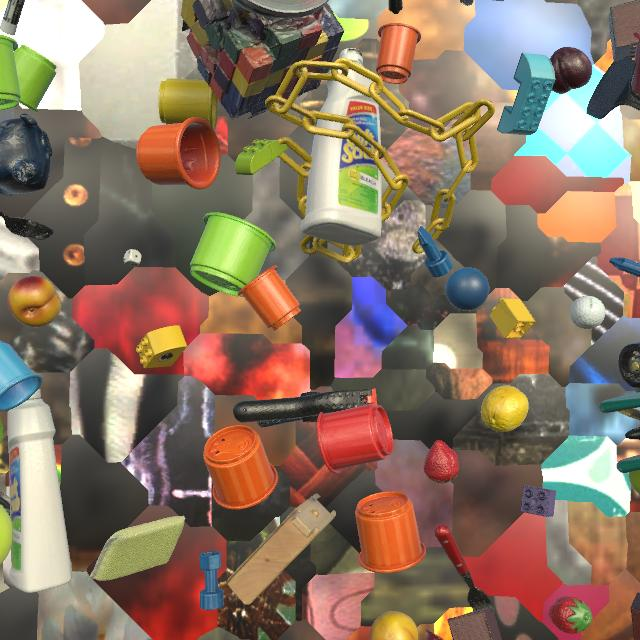ycb_005_tomato_soup_can: (0, 492, 10, 515)
ycb_012_strawberry: (549, 596, 592, 634), (423, 440, 459, 484)
ycb_014_lemon: (481, 385, 529, 432)
ycb_015_peach: (7, 276, 61, 327), (370, 611, 418, 640)
ycb_016_pear: (629, 470, 640, 494)
ycb_018_plum: (550, 47, 592, 94)
